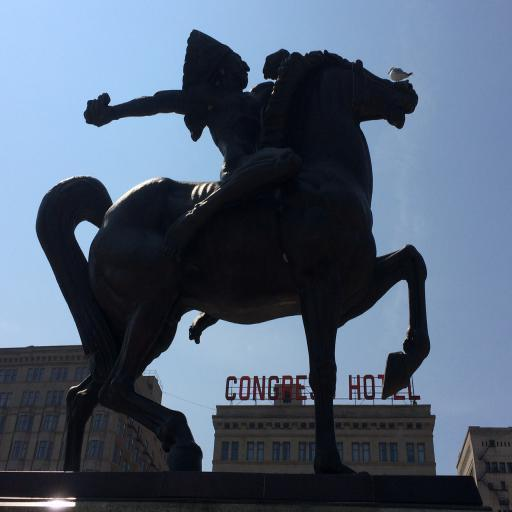horse: (33, 48, 431, 472)
